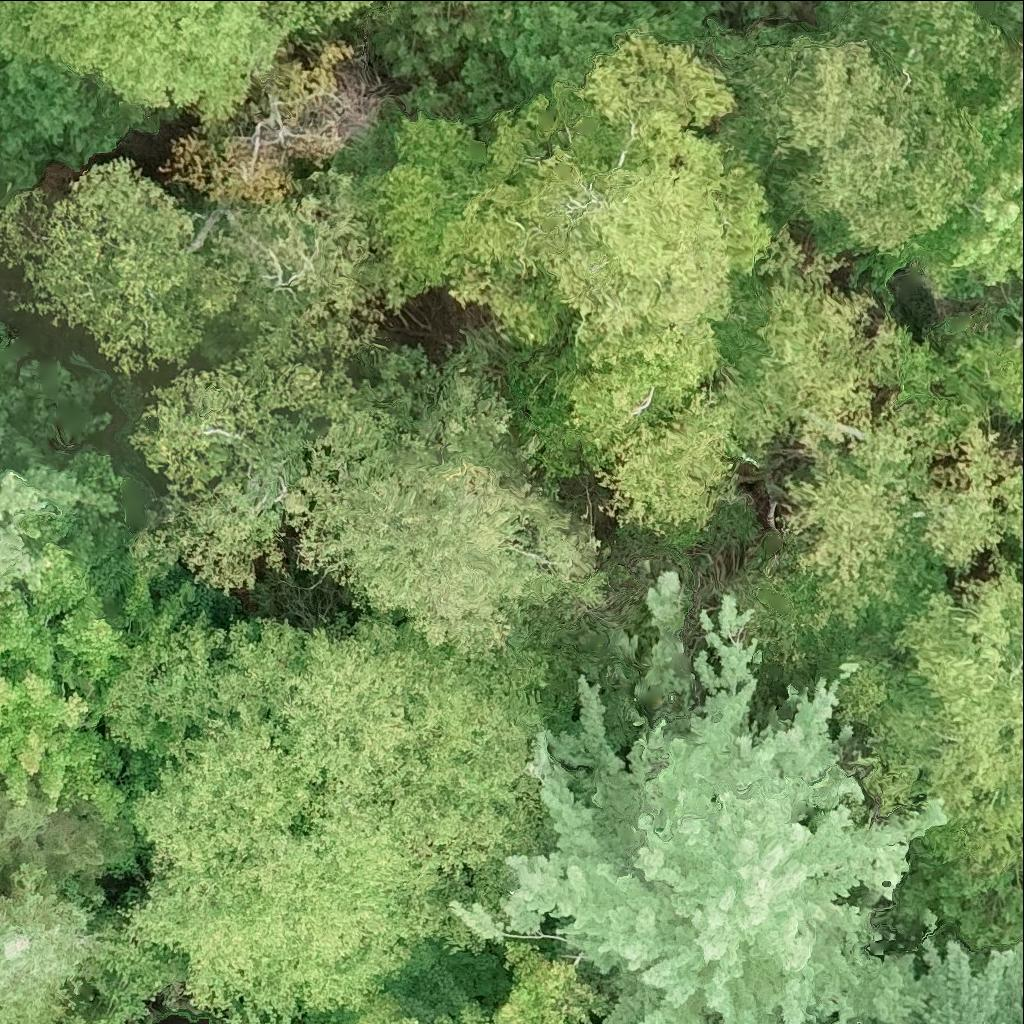crown: (458, 599, 938, 1023), (110, 619, 561, 1023), (378, 30, 774, 456), (289, 352, 595, 648), (601, 233, 879, 531), (828, 557, 1023, 937), (750, 0, 999, 263), (781, 323, 992, 624), (0, 543, 195, 863), (0, 157, 240, 377), (198, 174, 387, 421), (135, 370, 324, 588), (0, 0, 314, 125), (161, 43, 390, 210), (0, 55, 182, 209), (927, 37, 1023, 285), (494, 0, 718, 91), (0, 776, 133, 905), (0, 866, 104, 1023), (921, 421, 1023, 570), (853, 943, 1023, 1023), (455, 942, 620, 1023), (956, 321, 1023, 445), (398, 0, 504, 48), (353, 1002, 457, 1023), (0, 532, 40, 583), (0, 476, 48, 513), (301, 0, 365, 21), (993, 0, 1023, 40)
